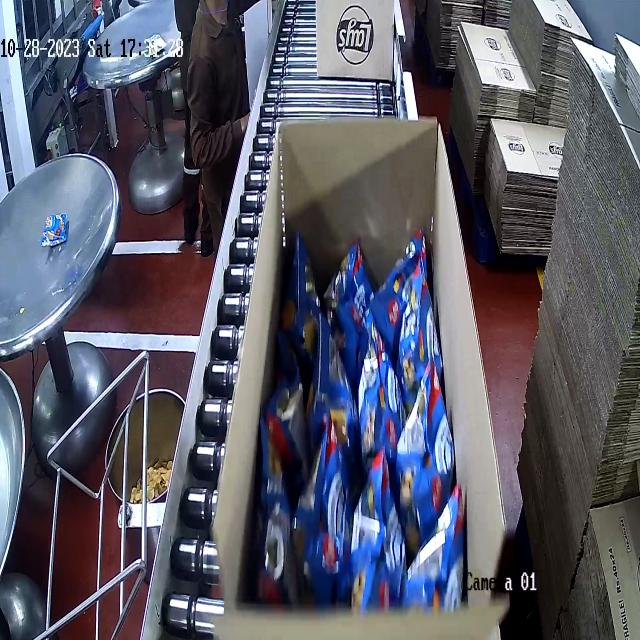PAPRIKA: (264, 240, 465, 598)
